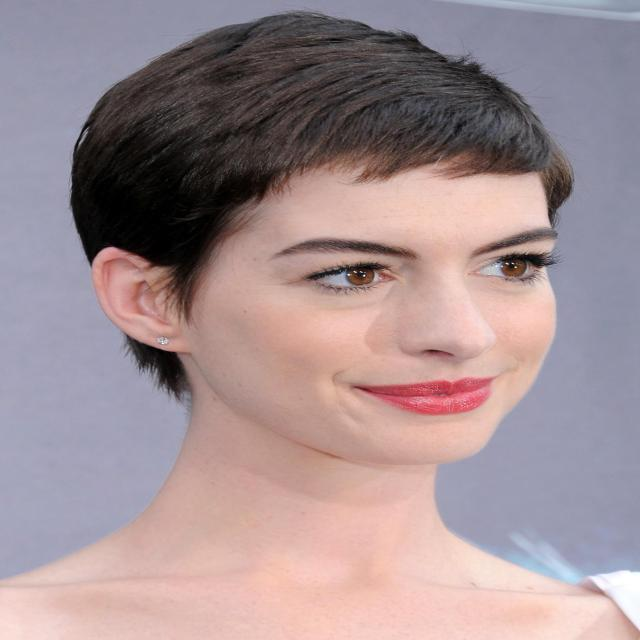no-earmuff: (77, 233, 224, 370), (56, 0, 131, 105)
